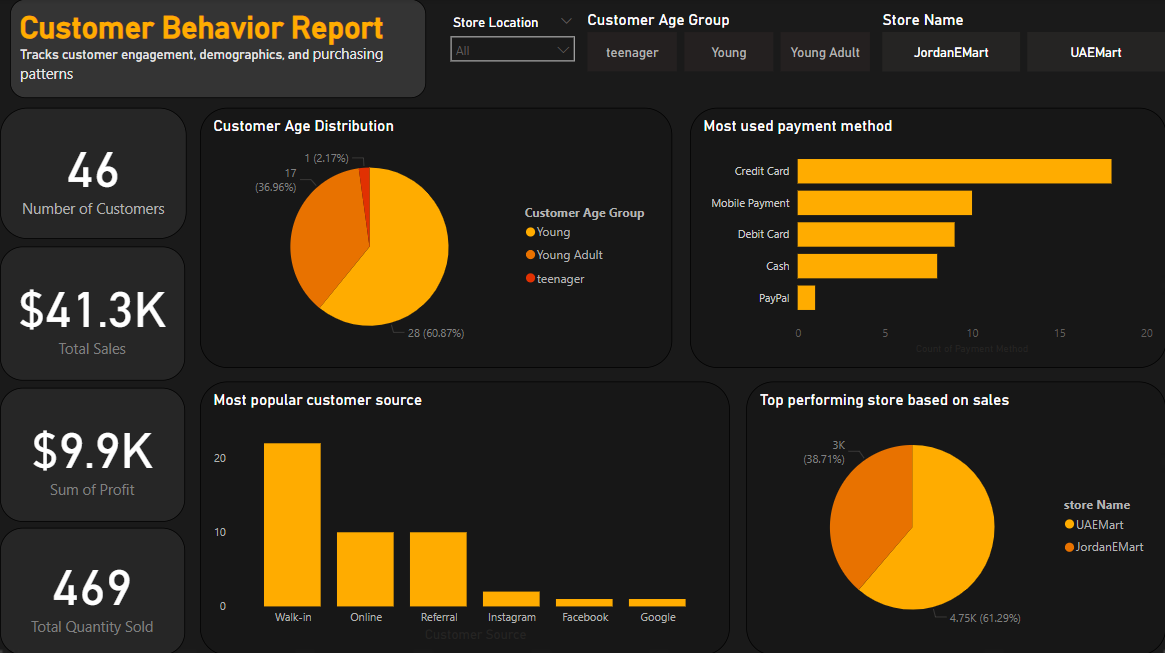

What the dashboard file says about the page in this screenshot:
{"tool":"powerbi","page":{"name":"Customer Behavior ","canvas":[1280,720],"ordinal":1},"visuals":[{"type":"clusteredBarChart","title":"Most used payment method","fields":{"Category":["sales.Payment Method"],"Y":["CountNonNull(sales.Payment Method)"]},"box":[757.5,119.4,522.8,285.4],"z":0},{"type":"pieChart","title":"Top performing store based on sales","fields":{"Y":["Max(sales.Total Sales)"],"Category":["sales.store Name"]},"box":[819.2,419.9,461.1,300.5],"z":1000},{"type":"clusteredColumnChart","title":"Most popular customer source","fields":{"Category":["sales.Customer Source"],"Y":["CountNonNull(sales.Transaction ID)"]},"box":[219.6,419.9,581.8,300.5],"z":2000},{"type":"pieChart","title":"Customer Age Distribution","fields":{"Category":["sales.customer age group"],"Y":["CountNonNull(sales.Transaction ID)"]},"box":[219.6,119.4,518.7,285.4],"z":3000},{"type":"slicer","fields":{"Values":["sales.Store Location"]},"box":[484.4,12.3,156.4,67.2],"z":4000},{"type":"card","fields":{"Values":["CountNonNull(sales.Customer Age)"]},"box":[0,119.4,204.5,144.1],"z":5000},{"type":"advancedSlicerVisual","fields":{"Values":["sales.tore Name"]},"box":[968.8,12.3,311.5,67.2],"z":6000},{"type":"advancedSlicerVisual","fields":{"Values":["sales.customer age group"]},"box":[644.9,12.3,311.5,67.2],"z":7000},{"type":"textbox","box":[11,0,456.9,108.4],"z":8000},{"type":"card","fields":{"Values":["Sum(sales.Quantity Sold)"]},"box":[0,580,203.1,140],"z":9000},{"type":"card","fields":{"Values":["Sum(sales.Profit)"]},"box":[0,426.8,203.1,146.8],"z":10000},{"type":"card","fields":{"Values":["Sum(sales.Total Sales)"]},"box":[0,271.7,203.1,146.8],"z":11000}]}

Visuals, with their boxes in screenshot pixels (x1, y1, x2, y2), scaled from the page's 1280x720 canvas onto the 1165x653 screenshot:
"Most used payment method" clusteredBarChart: BBox(689, 108, 1164, 367)
"Top performing store based on sales" pieChart: BBox(746, 381, 1164, 652)
"Most popular customer source" clusteredColumnChart: BBox(200, 381, 729, 652)
"Customer Age Distribution" pieChart: BBox(200, 108, 672, 367)
slicer - sales.Store Location: BBox(441, 11, 583, 72)
card - CountNonNull(sales.Customer Age): BBox(0, 108, 186, 239)
advancedSlicerVisual - sales.tore Name: BBox(882, 11, 1164, 72)
advancedSlicerVisual - sales.customer age group: BBox(587, 11, 870, 72)
textbox: BBox(10, 0, 426, 98)
card - Sum(sales.Quantity Sold): BBox(0, 526, 185, 652)
card - Sum(sales.Profit): BBox(0, 387, 185, 520)
card - Sum(sales.Total Sales): BBox(0, 246, 185, 380)
